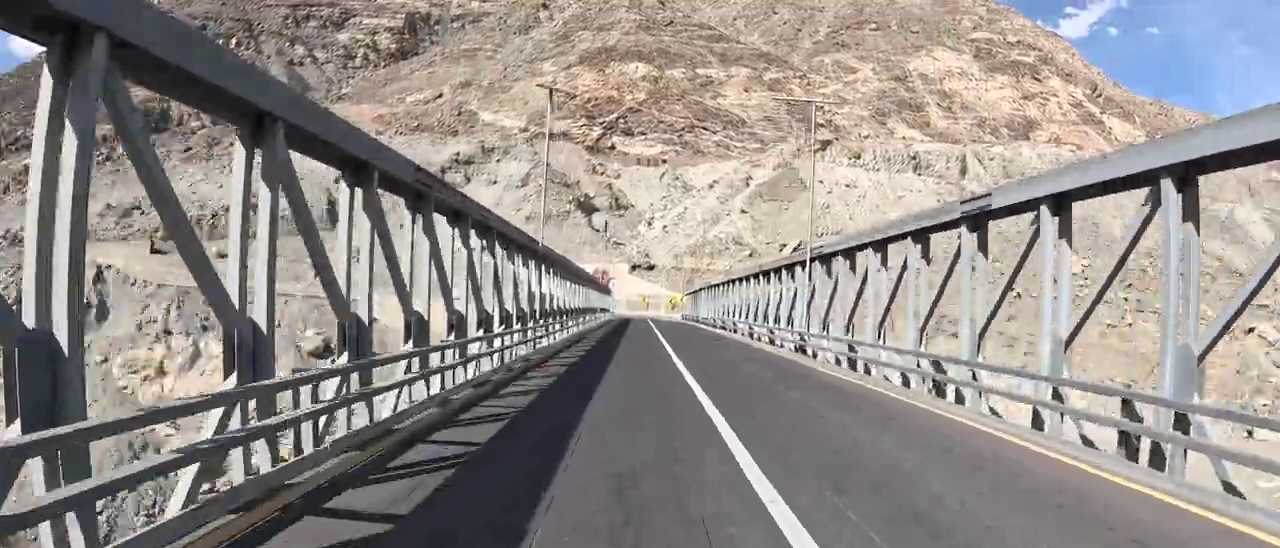left: (546, 282, 851, 548)
